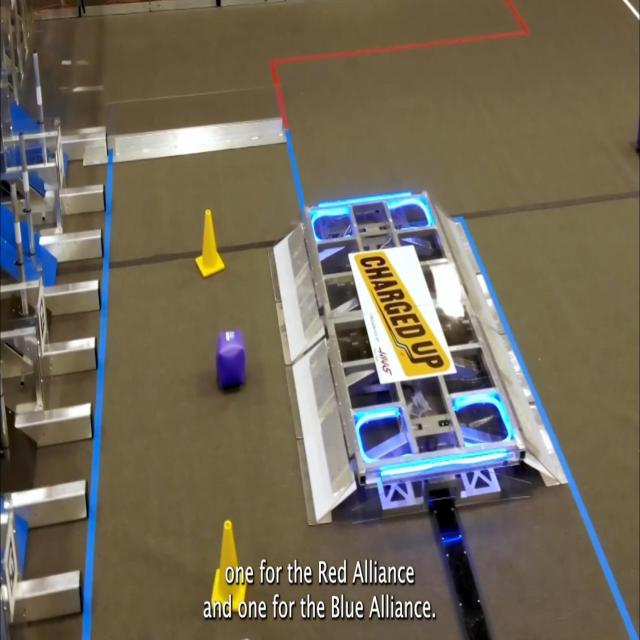frc_cone: (214, 519, 246, 614), (195, 203, 224, 279)
frc_cube: (220, 329, 248, 386)
